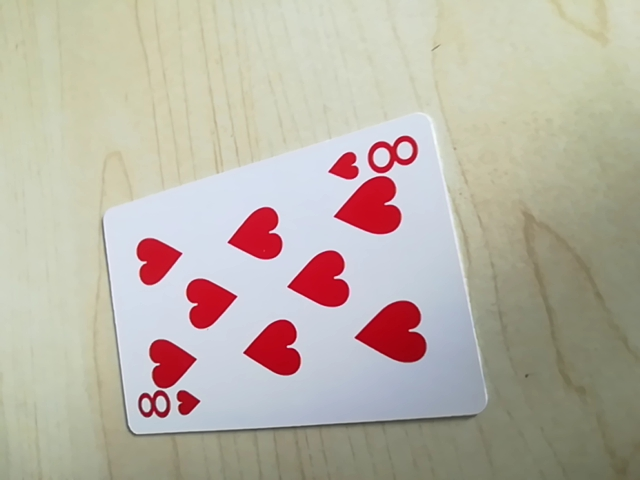hx 8: (326, 129, 423, 181), (131, 387, 203, 430)
